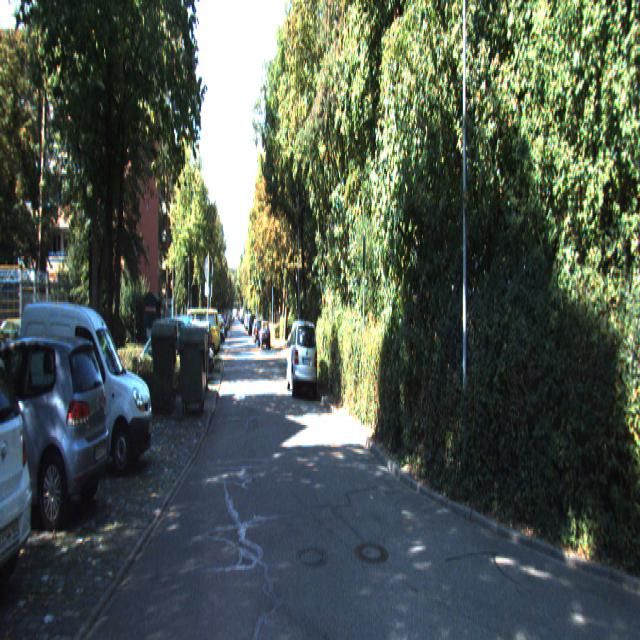Car: (18, 293, 155, 478), (0, 327, 110, 533), (286, 318, 318, 401), (183, 307, 220, 362), (258, 321, 271, 350)
